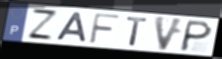A: (54, 11, 89, 44)
F: (88, 12, 122, 46)
P: (178, 19, 215, 53)
T: (125, 16, 150, 47)
V: (153, 15, 186, 52)
Z: (26, 7, 60, 42)
